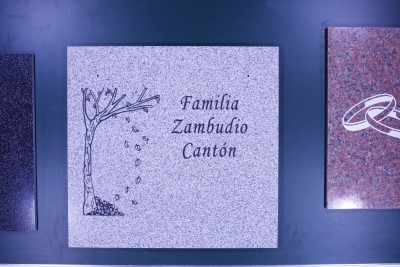lapidas: (67, 46, 279, 248)
